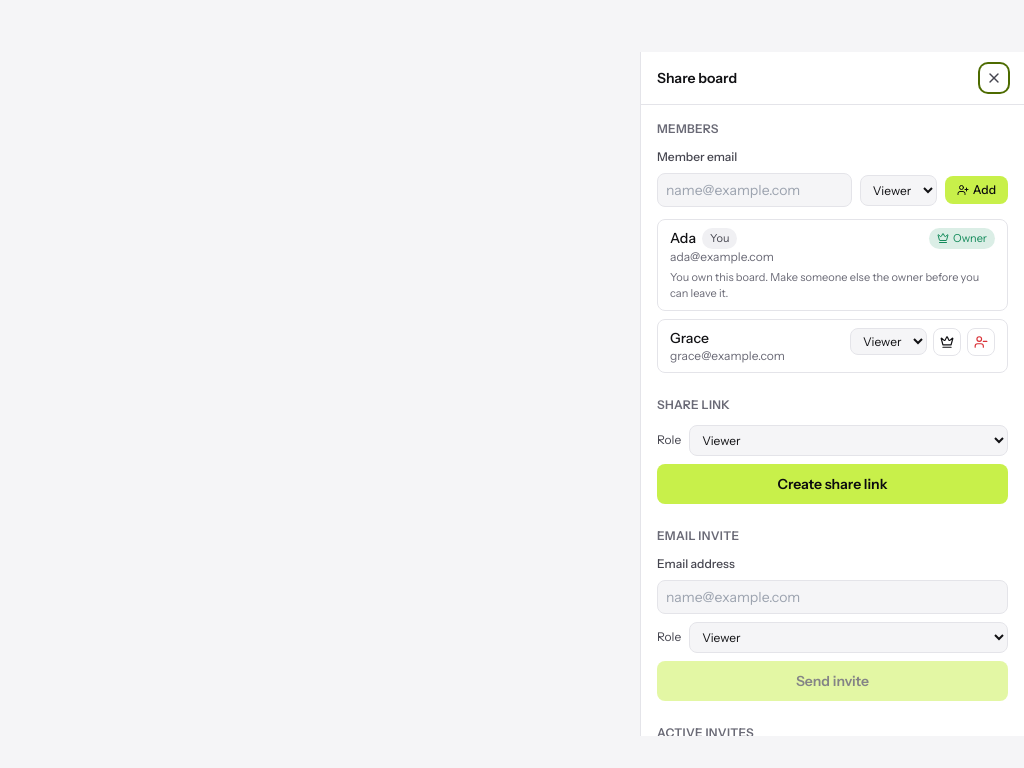
it: BoardSharingPanel › asks for confirmation before removing, and cancel keeps the member
What coordinates should you click on to do the following:
click the button named "remove grace"
I would click on:
 (981, 342)
Its box is left=967, top=328, right=995, bottom=356.
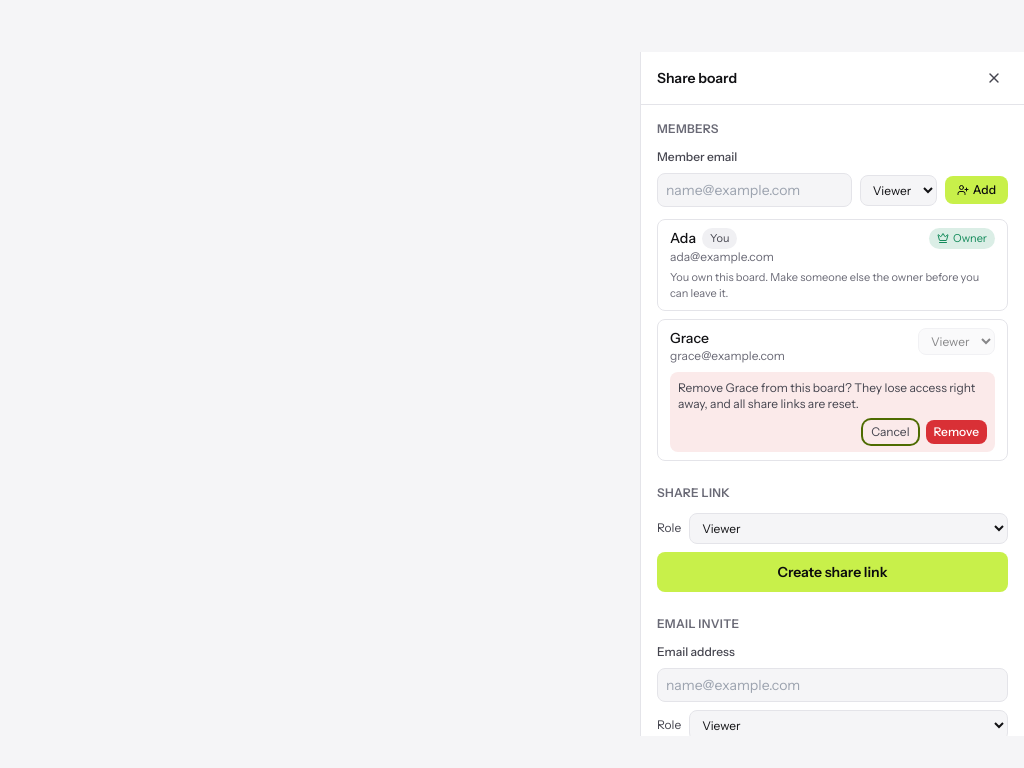
Expected: the text "Remove Grace from this board?" is shown, left=678, top=380, right=975, bottom=410
What coordinates should you click on to do the following:
click the button "Cancel"
I would click on:
 (890, 432)
Its box is left=863, top=420, right=918, bottom=444.
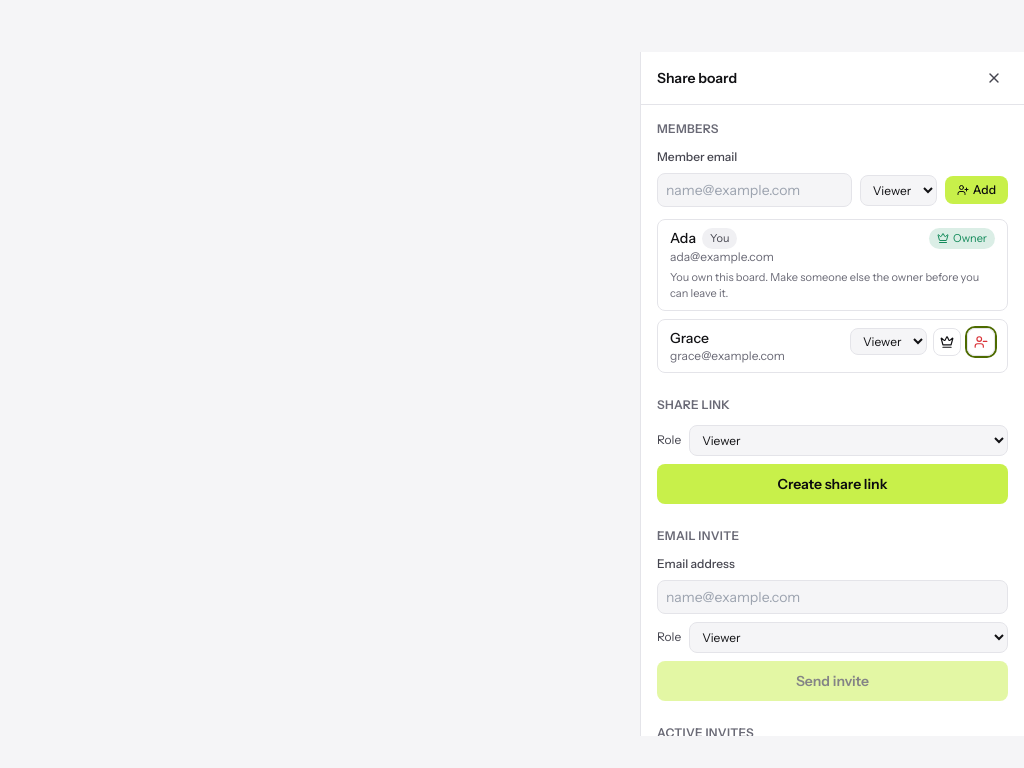
Expected: the button named "remove grace" is shown, left=967, top=328, right=995, bottom=356
